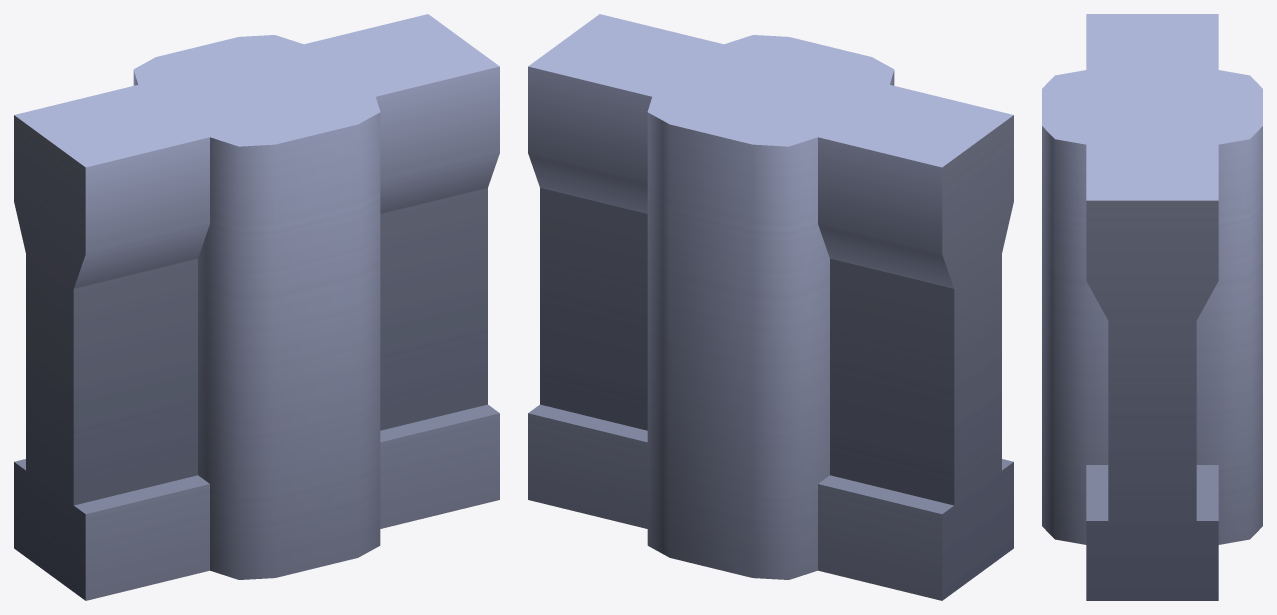
Rendered from wall-pillar.obj.
3 views of the same model, side by side, from view 1: azimuth 30°, elevation 25°; view 2: azimuth 150°, elevation 25°; view 3: azimuth 270°, elevation 25° (orthographic). The views are drawn at different scales.
Visible parts, largest first — view 1: wall-pillar; view 2: wall-pillar; view 3: wall-pillar.
Boxes of the visible parts, <box> form: wall-pillar: <box>14,14,499,600</box>; wall-pillar: <box>528,14,1013,600</box>; wall-pillar: <box>1042,14,1262,600</box>.
Bounding box in the file's own units: 1 × 1 × 0.5.
1 material, 1 textured.
